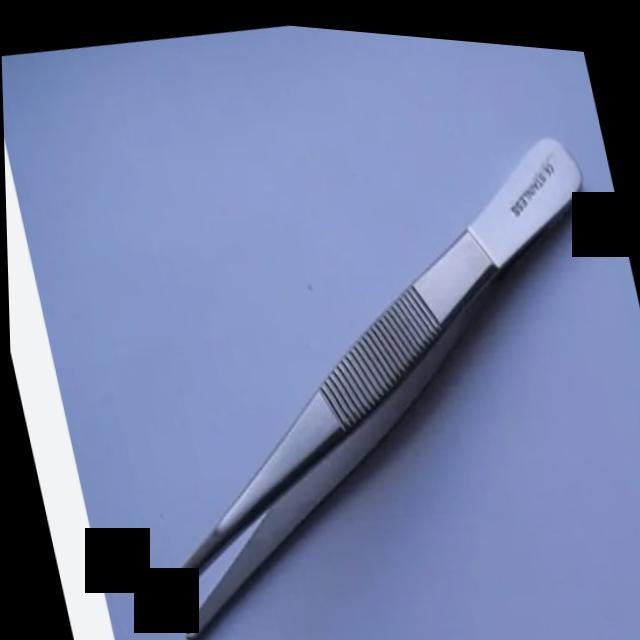Disscting Forceps -tooth-: (54, 78, 640, 640)
